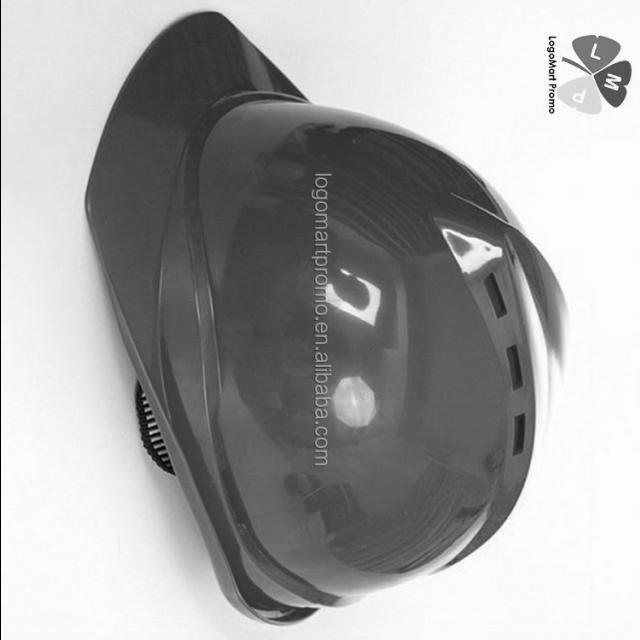safety_helmet: (80, 9, 567, 626)
